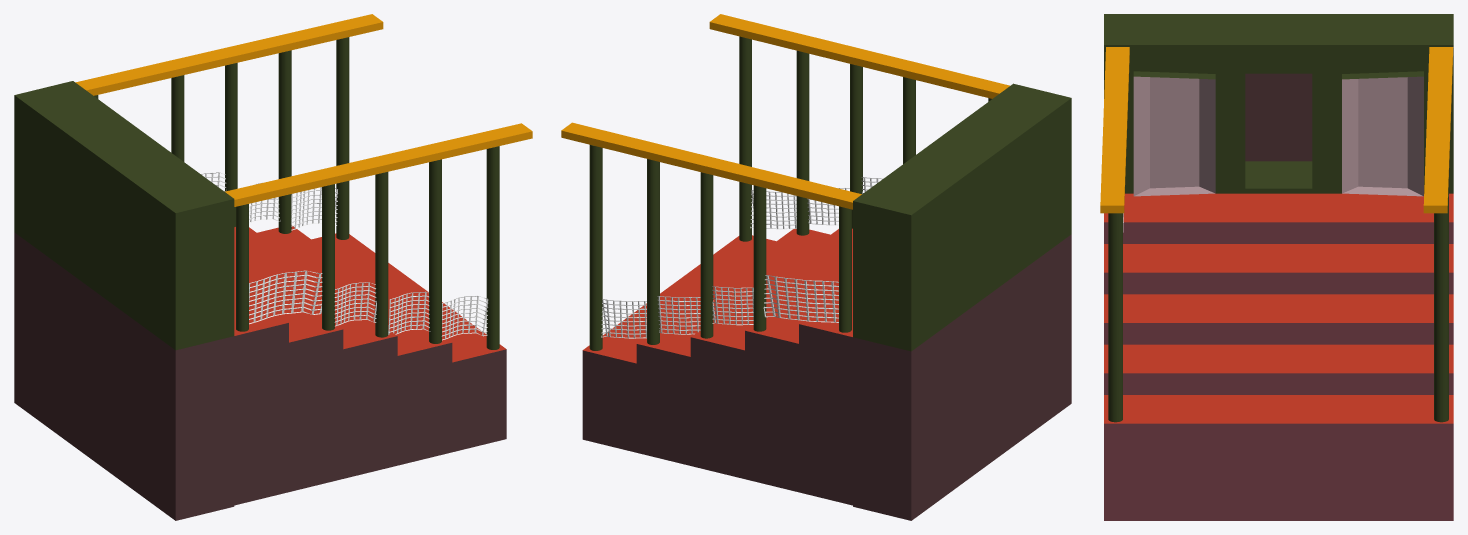
The model's file is Arena.fbx.
3 renders of one model, left to right at view 1: azimuth 30°, elevation 25°; view 2: azimuth 150°, elevation 25°; view 3: azimuth 270°, elevation 25°, orthographic. The views are drawn at different scales.
Parts seen in each view (by area): view 1: Cube, Grid, Grid.003, Grid.001, Grid.002, Grid.004; view 2: Cube, Grid.007, Grid.004, Grid.005, Grid.006, Grid.003; view 3: Cube.
Boxes of the visible parts, x1=… form: Cube: x1=14, y1=14, x2=532, y2=520; Grid: x1=249, y1=270, x2=322, y2=324; Grid.003: x1=441, y1=295, x2=488, y2=340; Grid.001: x1=334, y1=282, x2=376, y2=326; Grid.002: x1=388, y1=291, x2=430, y2=334; Grid.004: x1=291, y1=187, x2=337, y2=230; Cube: x1=561, y1=14, x2=1071, y2=520; Grid.007: x1=763, y1=275, x2=838, y2=322; Grid.004: x1=601, y1=299, x2=646, y2=338; Grid.005: x1=657, y1=296, x2=700, y2=334; Grid.006: x1=712, y1=286, x2=753, y2=325; Grid.003: x1=750, y1=190, x2=796, y2=229; Cube: x1=1100, y1=14, x2=1453, y2=520.
Size of the model in its own units: 3735 by 3092 by 2970.
